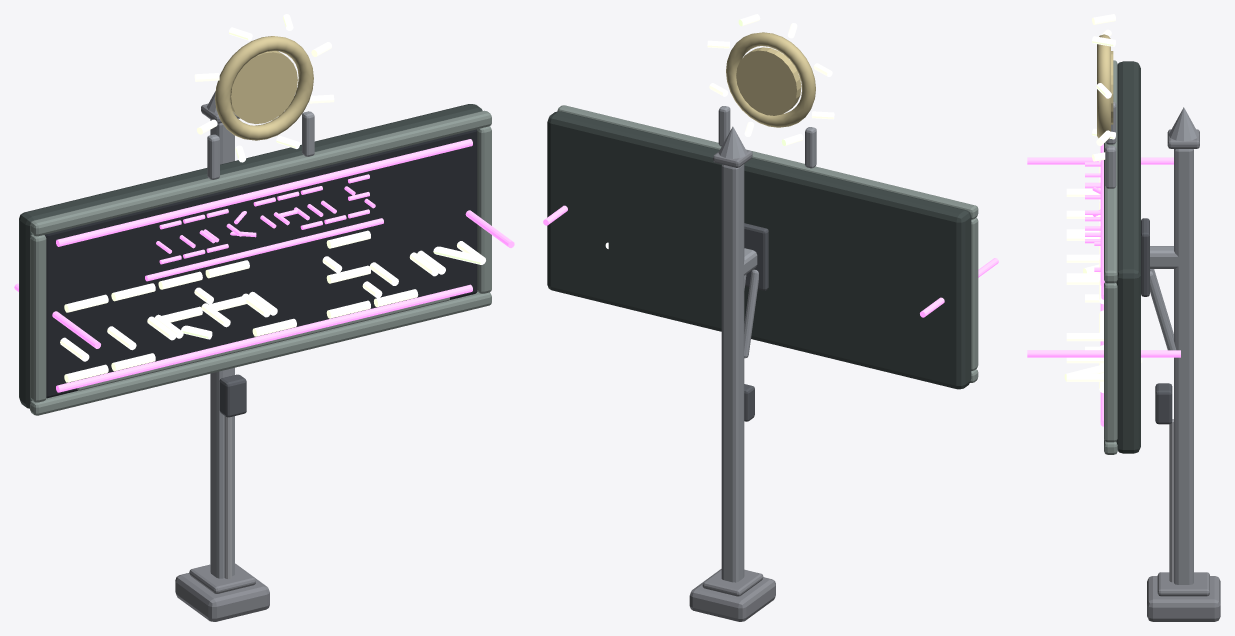
Rendered from sign_tropic.glb.
The picture shows the model from 3 angles, left to right: view 1: azimuth 30°, elevation 25°; view 2: azimuth 150°, elevation 25°; view 3: azimuth 270°, elevation 25°; orthographic projection. The views are drawn at different scales.
Visible parts, largest first — view 1: sign_tropic_face, sign_tropic_rail_top, sign_tropic_rail_bottom, sign_tropic_plate, sign_tropic_crest_ring, sign_tropic_mast_0, sign_tropic_crest_disc, sign_tropic_border_s2, sign_tropic_border_s0, sign_tropic_rail_l, sign_tropic_foot_0, sign_tropic_rail_r (+5 smaller); view 2: sign_tropic_plate, sign_tropic_mast_0, sign_tropic_crest_disc, sign_tropic_crest_ring, sign_tropic_rail_top, sign_tropic_foot_0, sign_tropic_rail_l, sign_tropic_stiffener_0, sign_tropic_footplate_0, sign_tropic_brace_0a; view 3: sign_tropic_plate, sign_tropic_mast_0, sign_tropic_foot_0, sign_tropic_rail_r, sign_tropic_rail_top, sign_tropic_crest_ring, sign_tropic_footplate_0, sign_tropic_border_s1, sign_tropic_conduit, sign_tropic_border_s3, sign_tropic_junction, sign_tropic_stiffener_0 (+10 smaller).
Part boxes in pixels (x1,y1,x2,y2): sign_tropic_face: (45,129,477,398); sign_tropic_rail_top: (30,110,491,236); sign_tropic_rail_bottom: (30,291,491,415); sign_tropic_plate: (19,104,482,408); sign_tropic_crest_ring: (215,36,313,140); sign_tropic_mast_0: (210,119,234,578); sign_tropic_crest_disc: (230,51,297,123); sign_tropic_border_s2: (56,139,472,246); sign_tropic_border_s0: (56,284,472,392); sign_tropic_rail_l: (30,234,46,402); sign_tropic_foot_0: (175,563,269,621); sign_tropic_rail_r: (477,126,491,293); sign_tropic_plate: (547,111,971,389); sign_tropic_mast_0: (721,164,744,582); sign_tropic_crest_disc: (736,47,801,115); sign_tropic_crest_ring: (726,32,815,127); sign_tropic_rail_top: (557,105,978,219); sign_tropic_foot_0: (689,569,775,621); sign_tropic_rail_l: (971,218,978,370); sign_tropic_stiffener_0: (744,223,768,290); sign_tropic_footplate_0: (702,569,763,596); sign_tropic_brace_0a: (744,269,758,358); sign_tropic_plate: (1116,61,1140,453); sign_tropic_mast_0: (1174,149,1193,584); sign_tropic_foot_0: (1147,576,1220,621); sign_tropic_rail_r: (1104,282,1117,442); sign_tropic_rail_top: (1104,60,1117,283); sign_tropic_crest_ring: (1097,34,1110,139); sign_tropic_footplate_0: (1157,572,1209,596); sign_tropic_border_s1: (1027,350,1180,357); sign_tropic_conduit: (1169,419,1173,582); sign_tropic_border_s3: (1027,157,1173,164); sign_tropic_junction: (1155,383,1172,424); sign_tropic_stiffener_0: (1141,218,1149,296).
Size of the model in its own units: 3.29 by 4.18 by 1.26.
